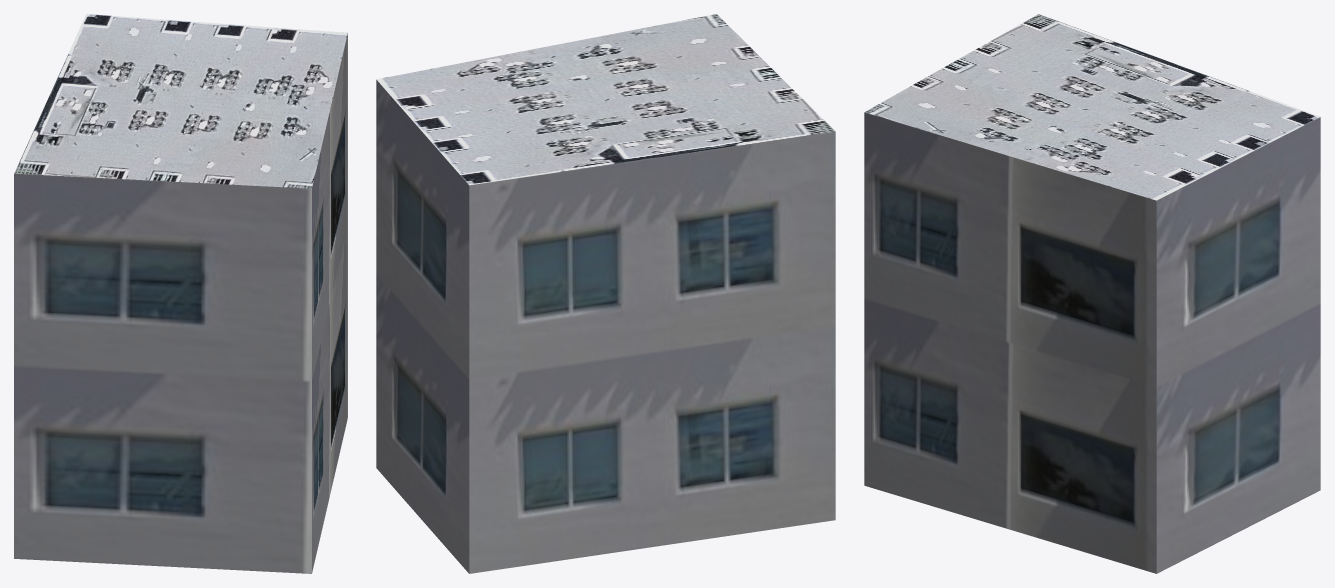
Rendered from ResTex__151.fbx.
The picture shows the model from 3 angles, left to right: view 1: azimuth 30°, elevation 25°; view 2: azimuth 150°, elevation 25°; view 3: azimuth 270°, elevation 25°; orthographic projection. The views are drawn at different scales.
Visible parts, largest first — view 1: CityEngineMaterial_10_m, CityEngineMaterial_m; view 2: CityEngineMaterial_10_m, CityEngineMaterial_m; view 3: CityEngineMaterial_10_m, CityEngineMaterial_m.
Part boxes in pixels (box(x1,y1,x2,y2)): CityEngineMaterial_10_m: box(14, 33, 347, 573); CityEngineMaterial_m: box(14, 14, 347, 188); CityEngineMaterial_10_m: box(376, 80, 835, 573); CityEngineMaterial_m: box(376, 14, 835, 185); CityEngineMaterial_10_m: box(864, 112, 1320, 573); CityEngineMaterial_m: box(865, 14, 1319, 200).
Bounding box in the file's own units: 6.43 × 6 × 6.65.
Materials: 2 (2 with a texture image).
